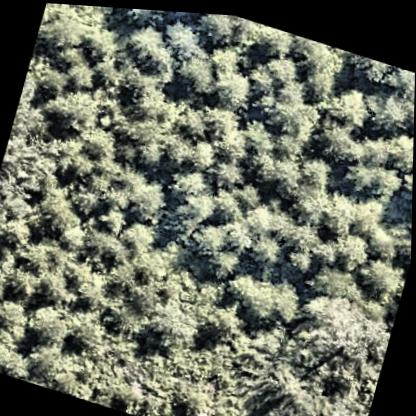tree-top: (30, 131, 91, 212), (219, 257, 282, 326), (36, 125, 98, 185), (34, 2, 97, 59), (340, 144, 402, 200), (44, 78, 101, 137), (119, 12, 174, 72), (215, 183, 274, 238), (318, 74, 374, 131), (204, 56, 258, 112), (364, 78, 415, 136), (119, 168, 170, 224), (22, 53, 78, 104), (310, 108, 363, 161), (20, 299, 73, 351), (351, 249, 406, 299), (311, 184, 361, 239), (323, 219, 376, 270), (58, 300, 108, 354), (308, 251, 361, 301), (30, 176, 79, 229), (290, 144, 340, 195), (168, 44, 217, 96), (124, 72, 173, 124), (70, 16, 118, 68), (370, 119, 414, 175), (23, 338, 71, 389), (206, 117, 254, 167), (208, 212, 253, 265), (237, 15, 289, 60), (154, 11, 202, 59), (128, 234, 175, 283), (167, 96, 214, 143), (256, 145, 303, 191), (80, 218, 127, 264), (288, 172, 333, 220), (175, 181, 219, 228), (164, 160, 210, 204), (115, 214, 159, 259), (130, 133, 171, 181), (216, 212, 262, 254), (58, 51, 100, 96), (260, 44, 303, 87), (13, 233, 57, 275), (189, 10, 237, 47), (204, 181, 246, 223), (342, 46, 391, 82), (2, 262, 43, 302), (189, 213, 229, 254), (206, 150, 246, 190), (0, 290, 31, 340), (203, 238, 242, 277), (242, 197, 279, 236), (106, 6, 161, 26), (384, 59, 415, 92), (395, 152, 414, 202), (0, 333, 21, 376), (395, 87, 415, 131)
